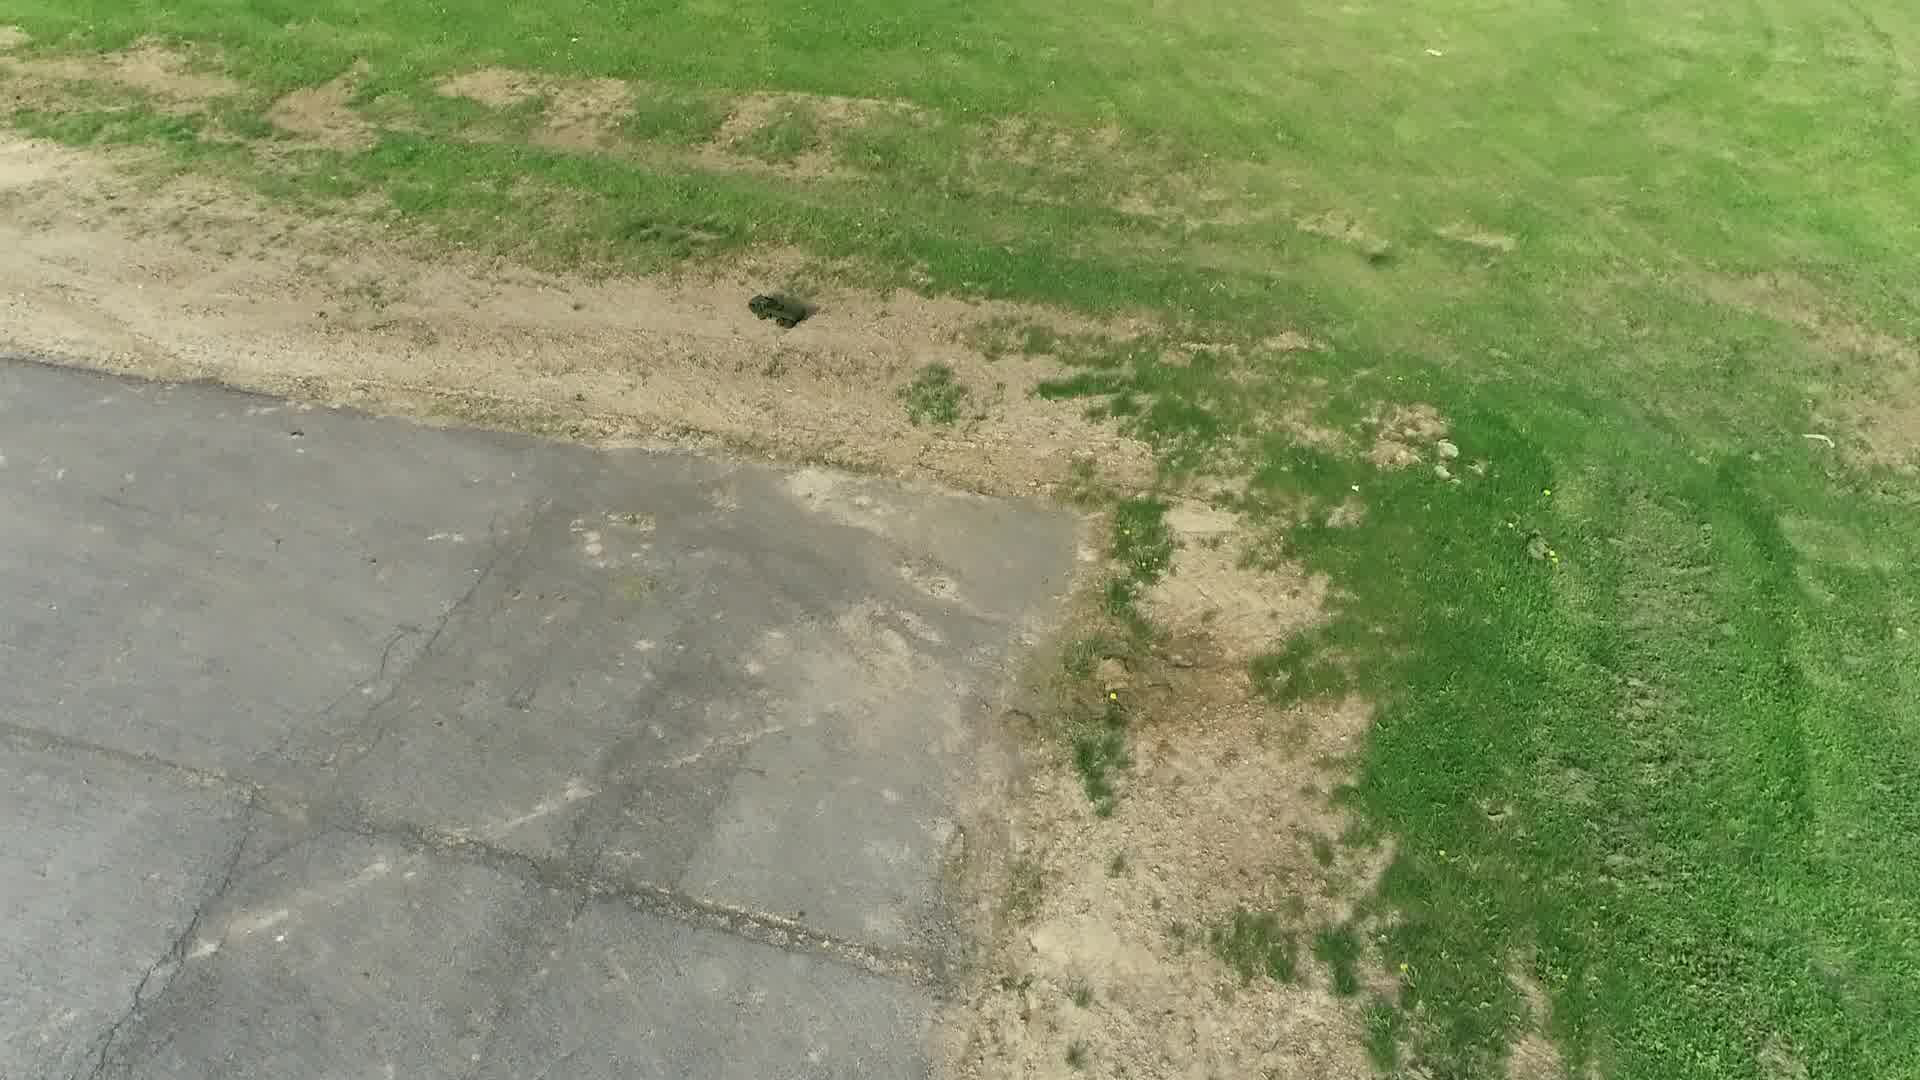transporter9: (741, 291, 808, 330)
